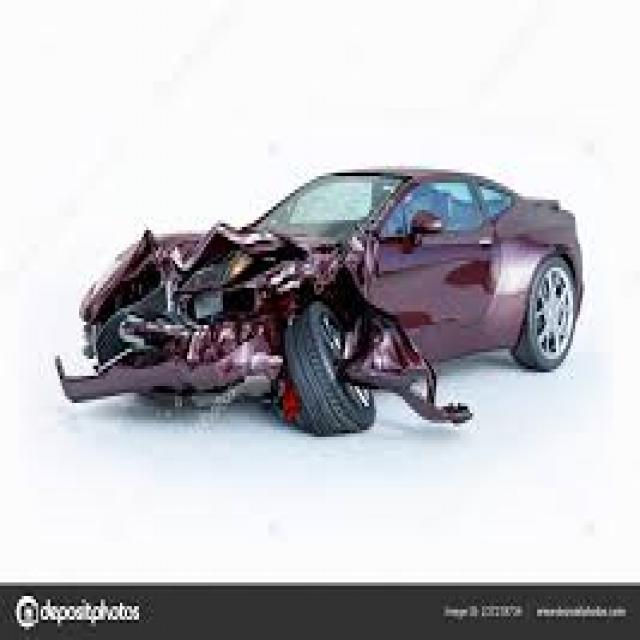severe: (46, 212, 476, 438)
